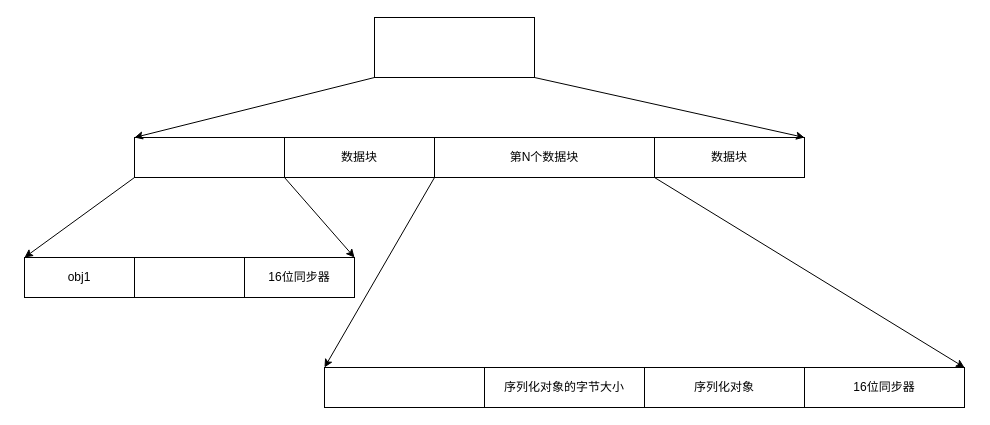
Some shapes in this 990 by 425 pixel diagram are drawn without their labels. Here are the shapes that lost their labels. From the top down, the centre of each, then its label:
point 454,47: 容器文件
point 209,157: 文件头
point 189,277: 元数据
point 404,387: 块中对象数
